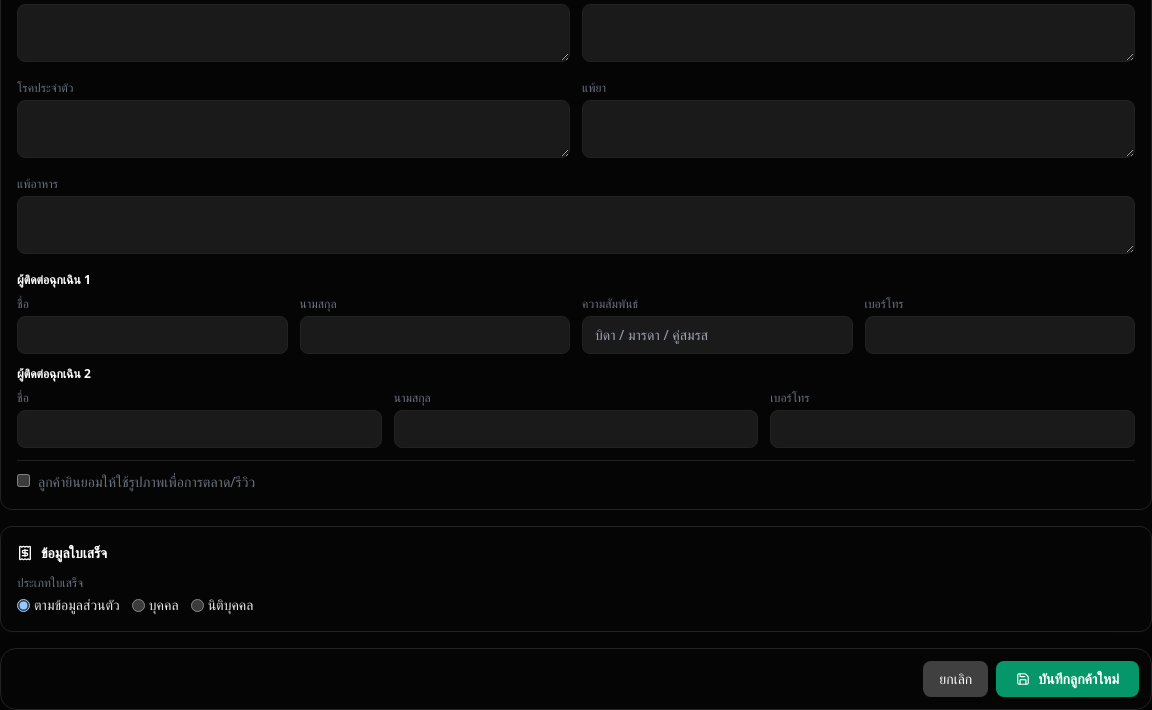
Scenario: V33.FF — full-flow simulate (mount → fill → submit) › FF4 — receipt_type toggle reveals personal vs company fieldsets
(page scrolled)
# Click "บุคคล"
Step 1. Click the radio button with test id "customer-form-receipt-type-personal" → click(138, 605), box [132, 599, 145, 612]
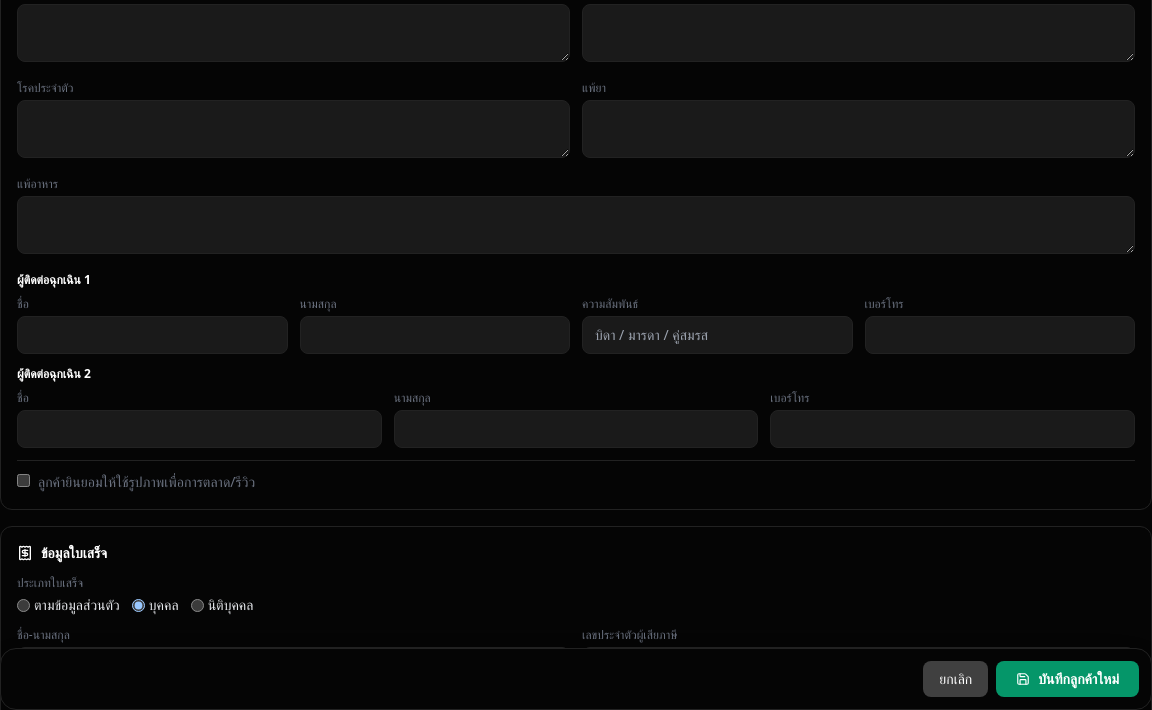
Check: the text "ชื่อ-นามสกุล" is shown, box [17, 626, 70, 643]
# Switch to "นิติบุคคล"
Step 2. Click the radio button with test id "customer-form-receipt-type-company" → click(197, 605), box [191, 599, 204, 612]
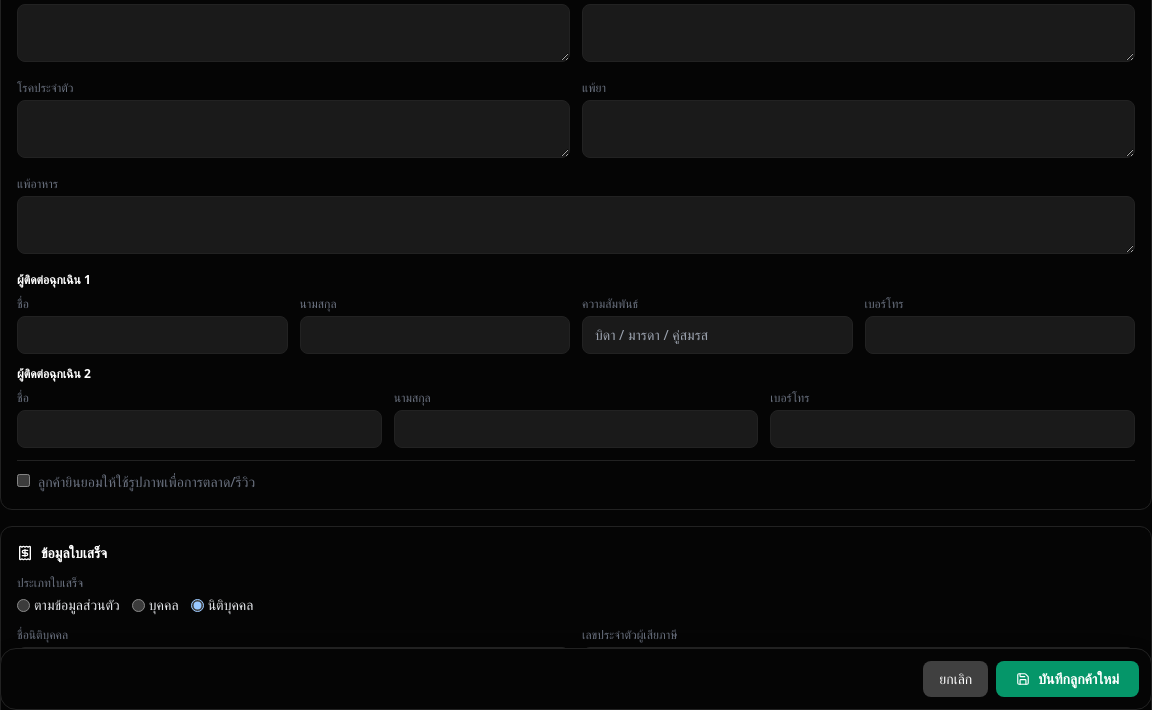
Check: the text "ชื่อนิติบุคคล" is shown, box [17, 626, 68, 643]
